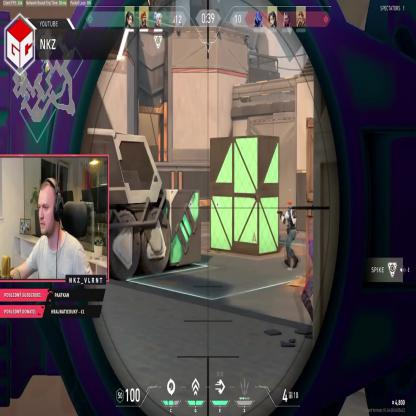enemy: (304, 230, 320, 330)
enemy_head: (313, 230, 320, 245)
